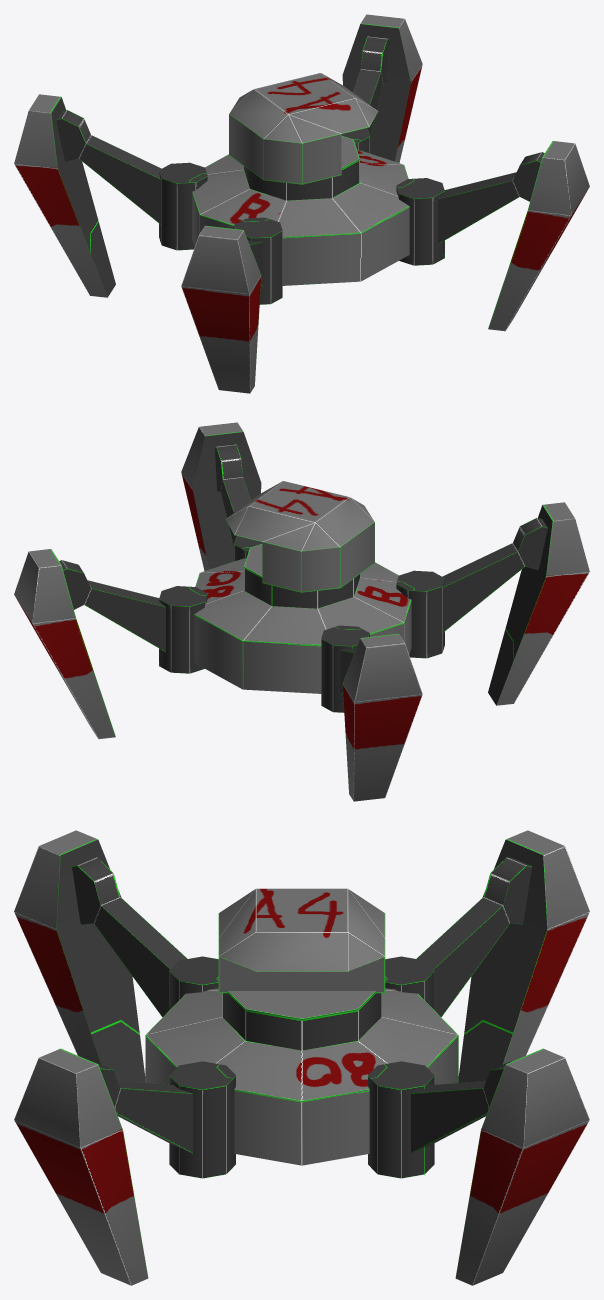
File: Drone.FBX
The picture shows the model from 3 angles, top to bottom: view 1: azimuth 30°, elevation 25°; view 2: azimuth 150°, elevation 25°; view 3: azimuth 270°, elevation 25°; orthographic projection. The views are drawn at different scales.
Visible parts, largest first — view 1: Dronebody, DroneHead, LegFR, LebBR, Dronehinge, LegFl, LegBL, LegBR_0, LegFL_0, LegBL_0; view 2: Dronebody, DroneHead, LebBR, LegFR, Dronehinge, LegBL, LegFl, LegFR_0, LegBL_0, LegFL_0; view 3: Dronebody, LegBL, LegFl, LebBR, LegFR, DroneHead, Dronehinge, LegBR_0, LegFR_0, LegBL_0, LegFL_0.
Part boxes in pixels (x1,y1,x2,y2): Dronebody: [192, 136, 409, 285]; DroneHead: [229, 73, 378, 184]; LegFR: [181, 225, 261, 393]; LebBR: [14, 94, 115, 297]; Dronehinge: [159, 128, 444, 304]; LegFl: [488, 141, 589, 331]; LegBL: [342, 14, 422, 162]; LegBR_0: [56, 110, 161, 224]; LegFL_0: [438, 152, 544, 244]; LegBL_0: [353, 36, 389, 138]; Dronebody: [194, 544, 411, 693]; DroneHead: [225, 481, 374, 592]; LebBR: [342, 633, 422, 801]; LegFR: [488, 502, 589, 705]; Dronehinge: [159, 536, 444, 712]; LegBL: [14, 549, 115, 739]; LegFl: [181, 422, 261, 570]; LegFR_0: [442, 518, 547, 632]; LegBL_0: [59, 560, 165, 652]; LegFL_0: [214, 444, 250, 546]; Dronebody: [145, 988, 458, 1165]; LegBL: [455, 1048, 589, 1285]; LegFl: [14, 1048, 148, 1285]; LebBR: [458, 830, 589, 1082]; LegFR: [14, 830, 145, 1082]; DroneHead: [218, 888, 385, 993]; Dronehinge: [169, 956, 434, 1178]; LegBR_0: [416, 857, 531, 1017]; LegFR_0: [72, 857, 187, 1017]; LegBL_0: [411, 1061, 511, 1153]; LegFL_0: [92, 1061, 192, 1153].
Size of the model in its own units: 126 by 62.64 by 116.
